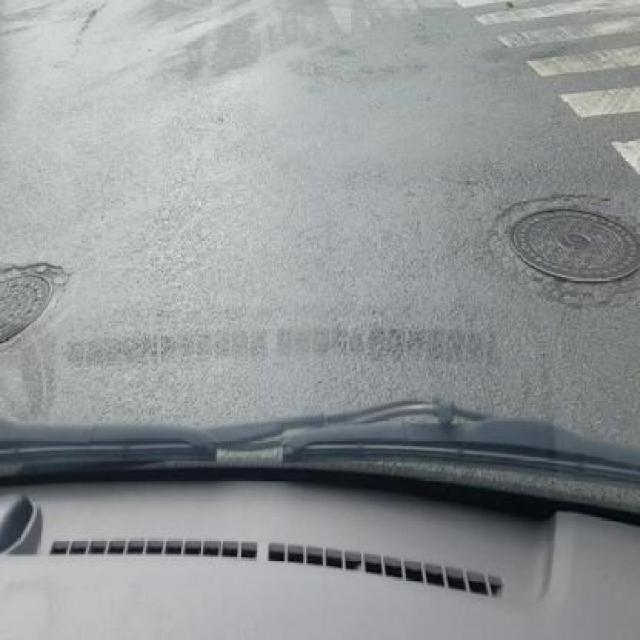Manhole: (511, 204, 640, 292), (0, 260, 71, 358)
